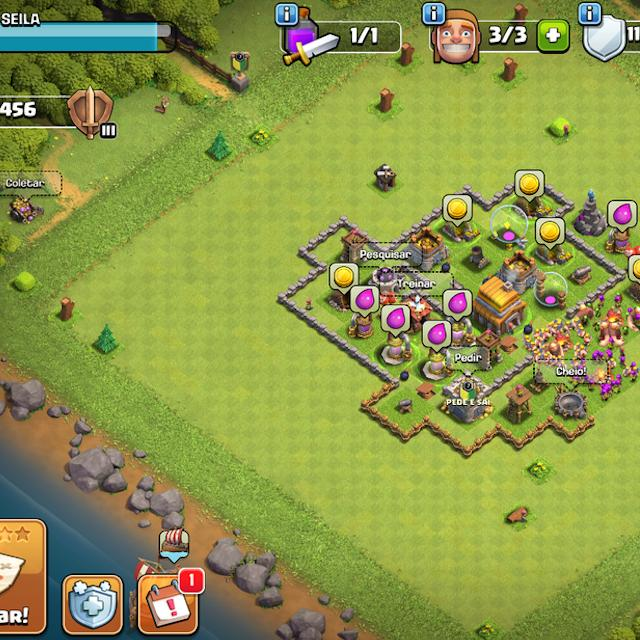Elixir: (607, 200, 637, 234), (443, 289, 473, 322), (352, 285, 379, 319), (382, 304, 409, 338), (424, 322, 452, 352)
coin: (329, 263, 359, 296), (444, 193, 474, 226), (515, 170, 545, 202), (536, 217, 566, 249), (629, 255, 640, 284)
